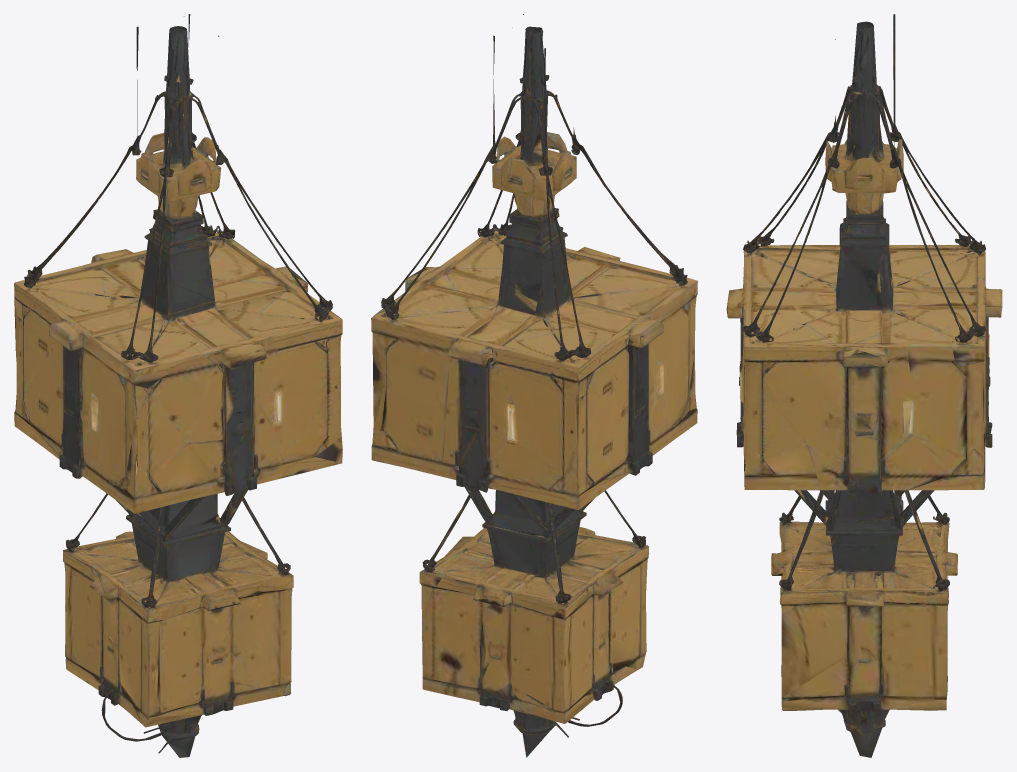
The model's file is bld-inverted-cube-hab-lod1.glb.
3 views of the same model, side by side, from view 1: azimuth 30°, elevation 25°; view 2: azimuth 150°, elevation 25°; view 3: azimuth 270°, elevation 25° (orthographic).
Visible parts, largest first — view 1: Mesh_0; view 2: Mesh_0; view 3: Mesh_0.
Part boxes in pixels (bbox=[...]): Mesh_0: bbox=[14, 14, 342, 757]; Mesh_0: bbox=[371, 14, 697, 757]; Mesh_0: bbox=[726, 14, 1002, 757].
Size of the model in its own units: 0.6381 by 1.87 by 0.6379.
1 material, 1 textured.
